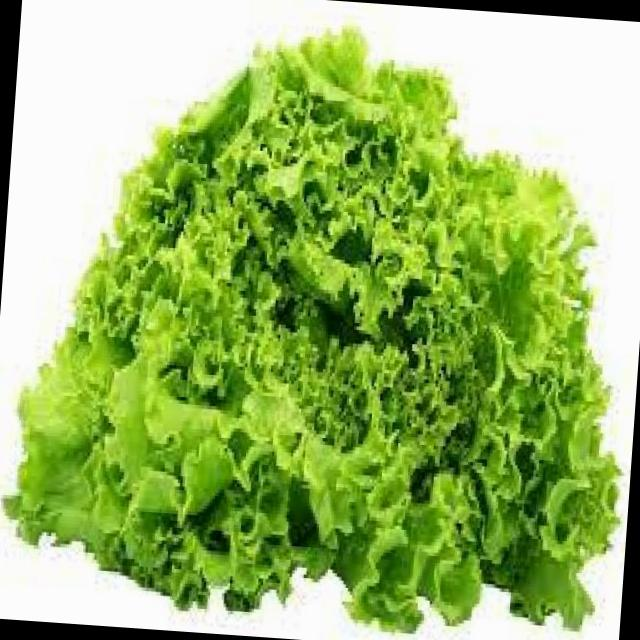Lettuce-Ready-to-Harvest: (11, 30, 616, 629)
